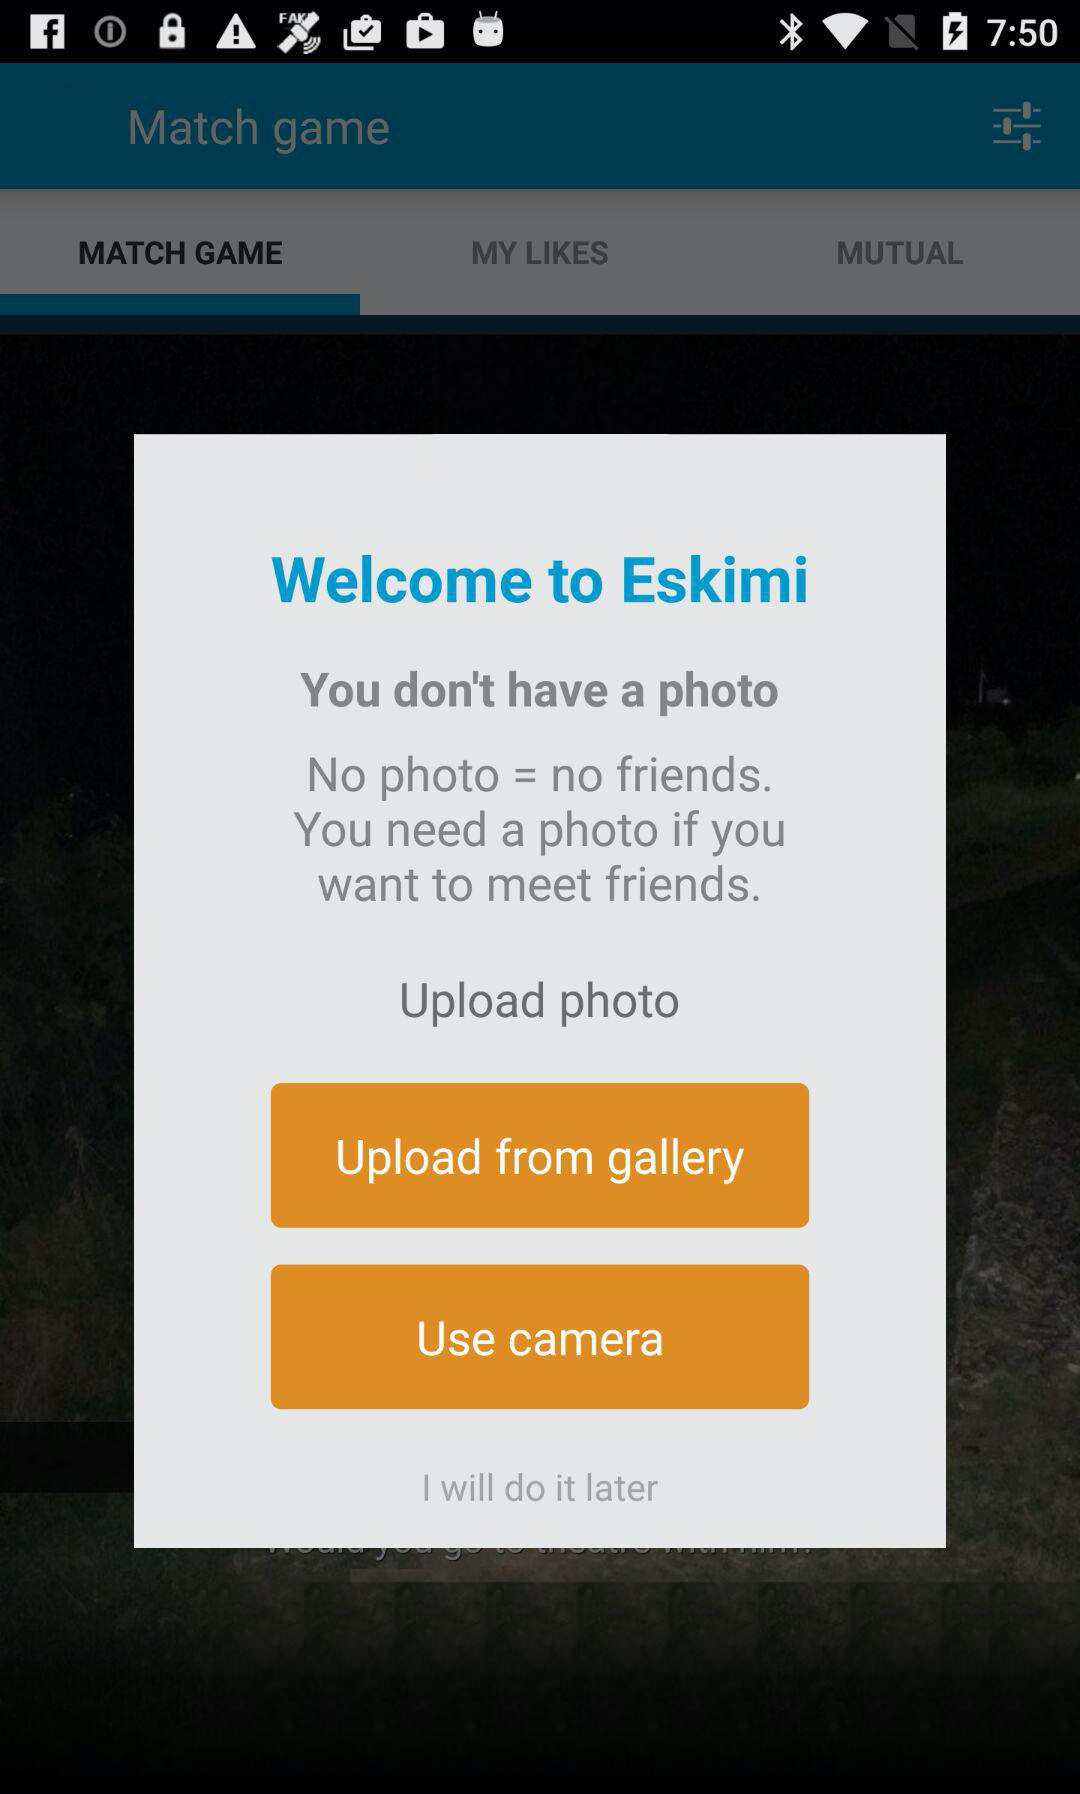Icon: (992, 103, 1043, 152)
Modal: (135, 434, 947, 1549)
Text: (293, 753, 787, 905), (272, 554, 808, 604), (299, 669, 780, 719), (401, 980, 680, 1032), (129, 108, 391, 158), (423, 1470, 661, 1504), (79, 241, 284, 267), (471, 241, 609, 267), (837, 241, 963, 267)
TextButton: (270, 1082, 811, 1229), (272, 1263, 811, 1411)
UpperTaskBar: (1, 1, 1080, 64)
